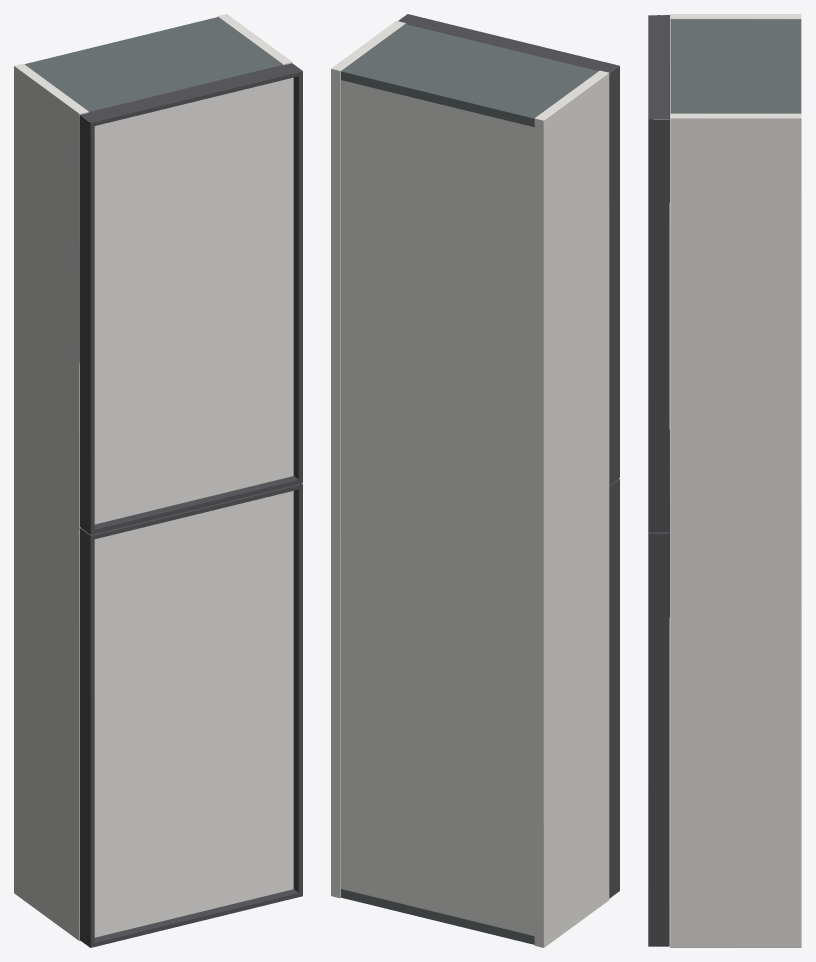
The picture shows the model from 3 angles, left to right: view 1: azimuth 30°, elevation 25°; view 2: azimuth 150°, elevation 25°; view 3: azimuth 270°, elevation 25°; orthographic projection.
Parts seen in each view (by area): view 1: AT11; view 2: AT11; view 3: AT11.
Part boxes in pixels (x1,y1,x2,y2): AT11: [14, 14, 302, 947]; AT11: [331, 14, 619, 947]; AT11: [648, 14, 801, 947].
Bounding box in the file's own units: 0.404 × 1.5 × 0.251.
4 materials, 2 textured.
